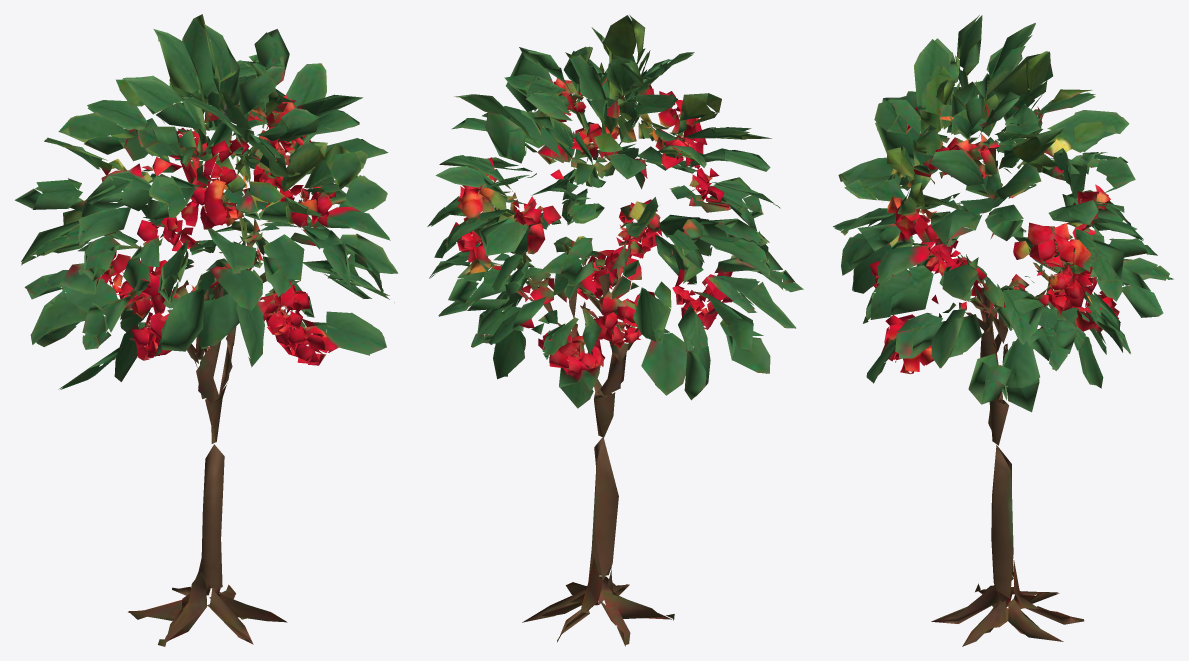
Rendered from coffee-tree.glb.
3 renders of one model, left to right at view 1: azimuth 30°, elevation 25°; view 2: azimuth 150°, elevation 25°; view 3: azimuth 270°, elevation 25°, orthographic. The views are drawn at different scales.
Visible parts, largest first — view 1: tree, fruit_ripe; view 2: tree, fruit_ripe; view 3: tree, fruit_ripe.
Part boxes in pixels (x1,y1,x2,y2): tree: (15, 14, 398, 646); fruit_ripe: (100, 95, 335, 365); tree: (427, 14, 803, 646); fruit_ripe: (449, 78, 732, 390); tree: (833, 15, 1173, 646); fruit_ripe: (870, 106, 1119, 374).
Size of the model in its own units: 0.8534 by 1.4 by 0.7238.
Materials: 1 (1 with a texture image).
